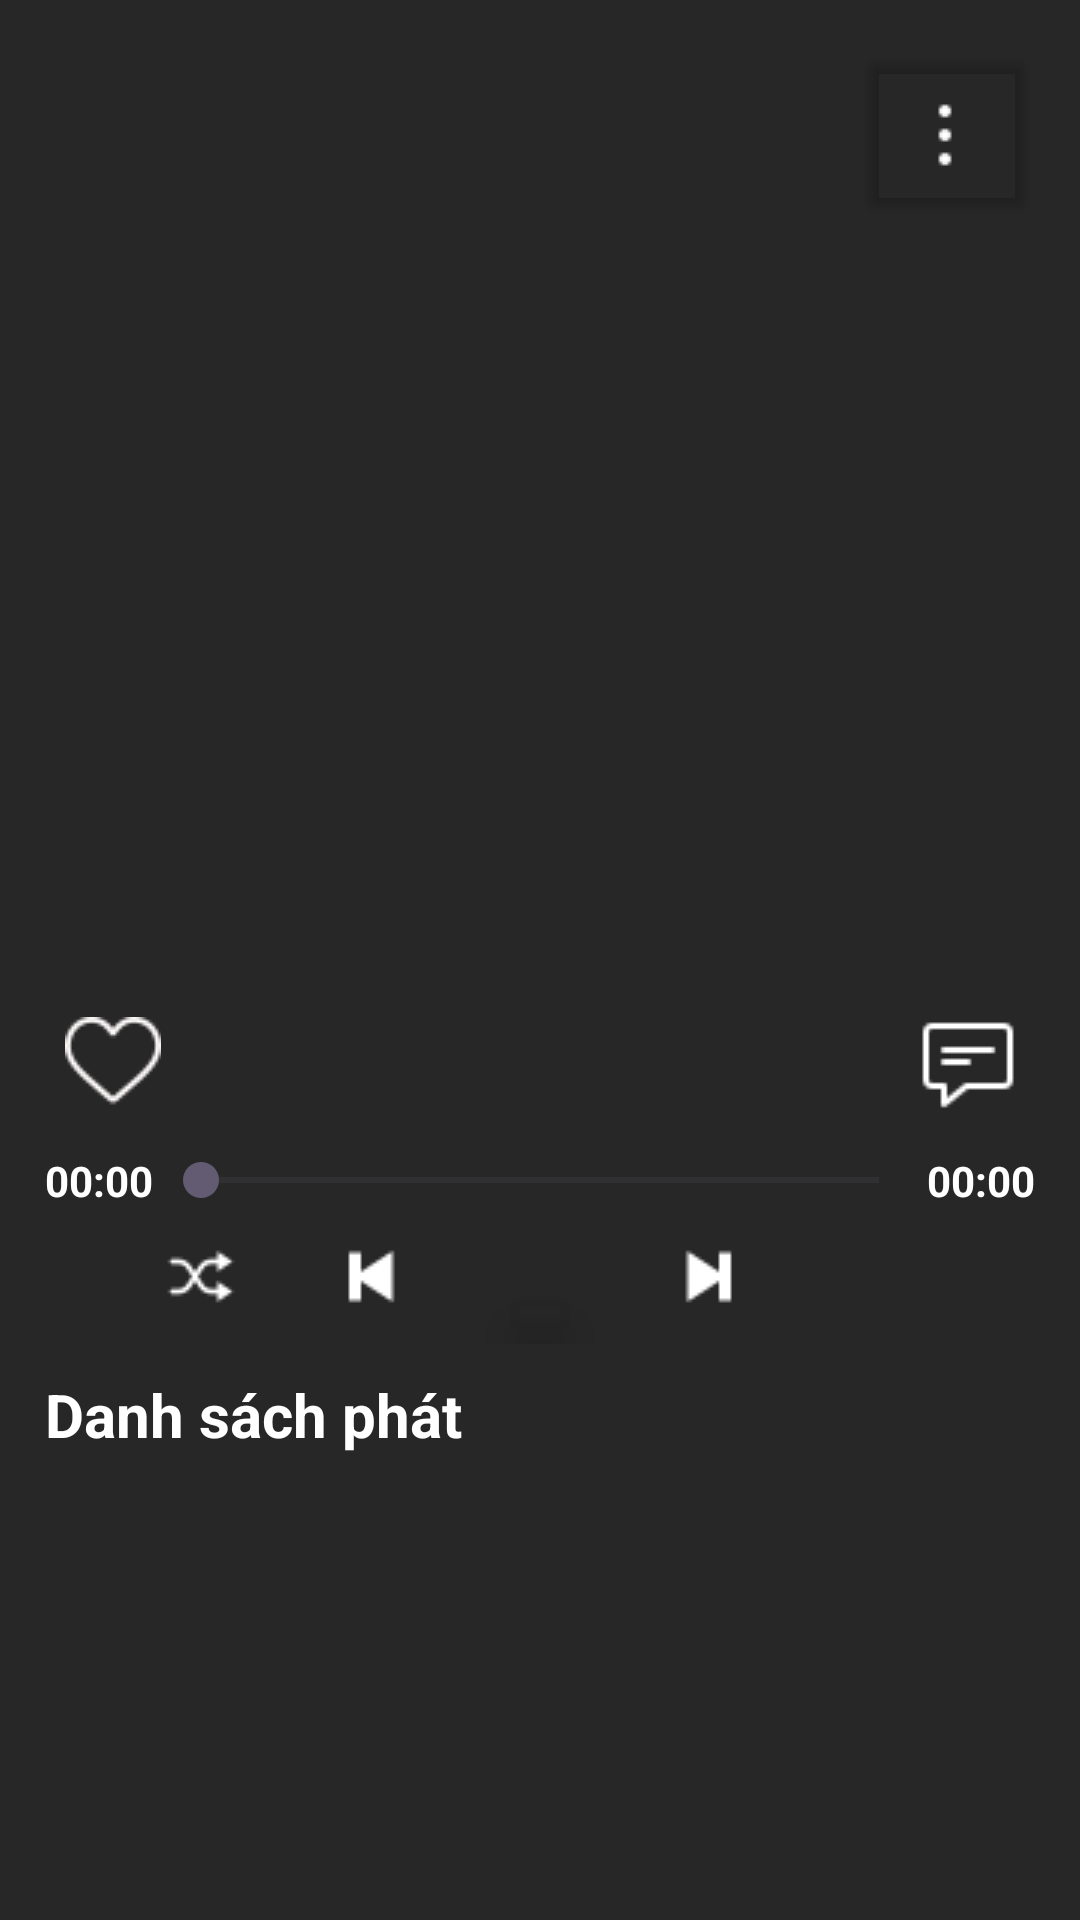

Named icons in this screenshot (1080x1920) and their centers, (x,y):
commenticon: (968,1065)
heart: (113,1061)
menu: (945,135)
random: (200,1276)
